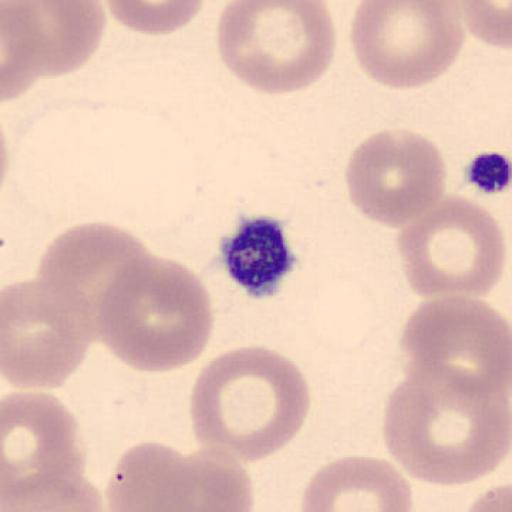Platelet: (219, 212, 300, 300), (462, 147, 512, 196)
RBC: (382, 362, 511, 486), (190, 344, 312, 464), (95, 253, 215, 373), (36, 220, 159, 330), (400, 294, 510, 414), (215, 0, 337, 96), (397, 194, 506, 300), (2, 277, 99, 390), (347, 0, 467, 90), (344, 127, 448, 230), (111, 440, 257, 512), (2, 390, 90, 507), (2, 1, 108, 78), (105, 440, 201, 512), (156, 444, 256, 512), (300, 454, 414, 512), (1, 468, 104, 512), (2, 4, 46, 102), (103, 0, 206, 37), (455, 0, 512, 49), (463, 482, 511, 512)
